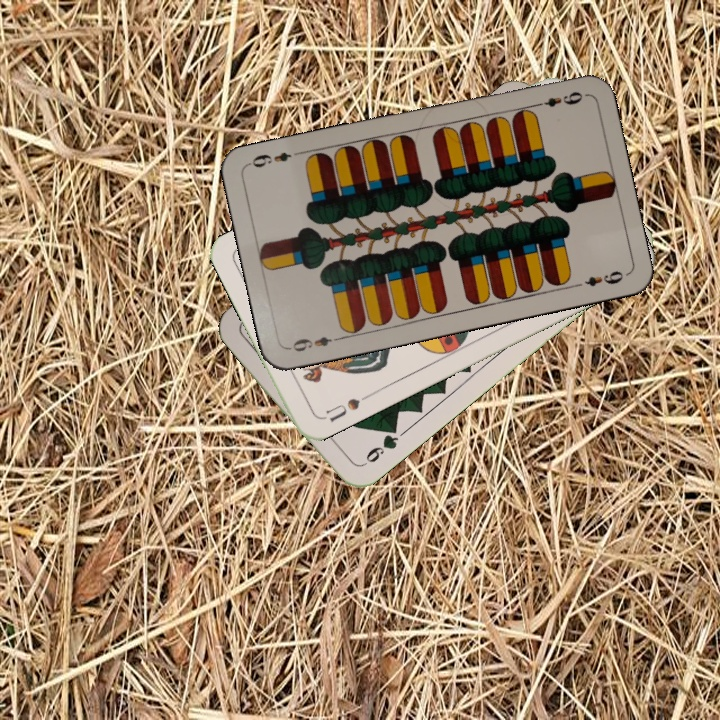E9: (285, 332, 344, 355), (529, 87, 586, 110)
G9: (356, 421, 401, 470)
SU: (317, 390, 373, 425)
